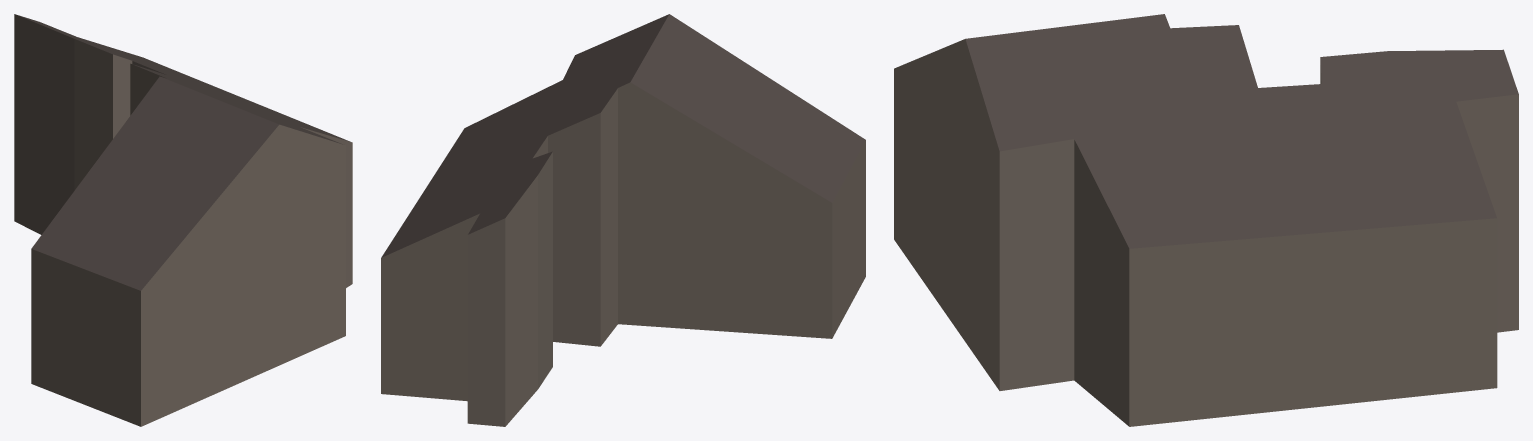
The picture shows the model from 3 angles, left to right: view 1: azimuth 30°, elevation 25°; view 2: azimuth 150°, elevation 25°; view 3: azimuth 270°, elevation 25°; orthographic projection. The views are drawn at different scales.
Parts seen in each view (by area): view 1: HP-w1512914154; view 2: HP-w1512914154; view 3: HP-w1512914154.
Boxes of the visible parts, box(x1,y1,x2,y2) form: HP-w1512914154: box(14, 14, 352, 426); HP-w1512914154: box(381, 14, 865, 426); HP-w1512914154: box(894, 14, 1518, 426).
Size of the model in its own units: 23.94 by 16.06 by 29.99.
